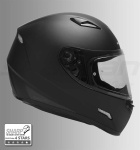Helmet: (7, 9, 136, 136)
